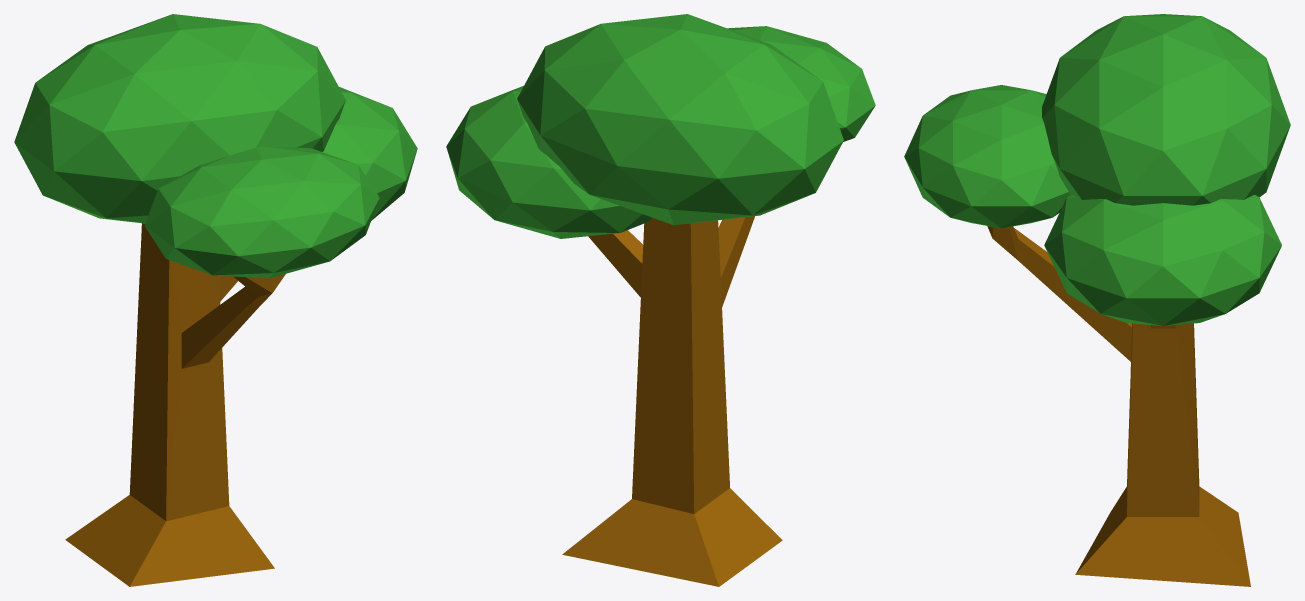
File: tree.fbx
The picture shows the model from 3 angles, left to right: view 1: azimuth 30°, elevation 25°; view 2: azimuth 150°, elevation 25°; view 3: azimuth 270°, elevation 25°; orthographic projection.
Parts seen in each view (by area): view 1: Icosphere; view 2: Icosphere; view 3: Icosphere.
Boxes of the visible parts, <box> form: Icosphere: <box>14,14,417,586</box>; Icosphere: <box>446,14,875,586</box>; Icosphere: <box>904,14,1290,586</box>.
Size of the model in its own units: 1577 by 2140 by 1455.
